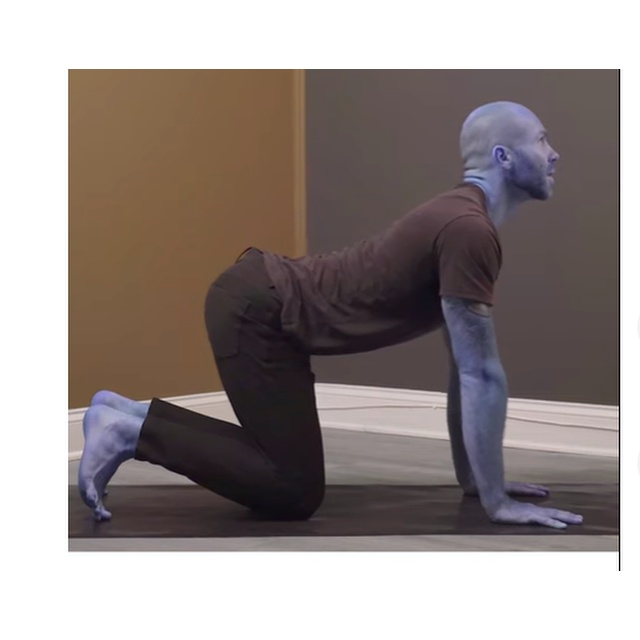Cow_Pose: (79, 100, 586, 533)
